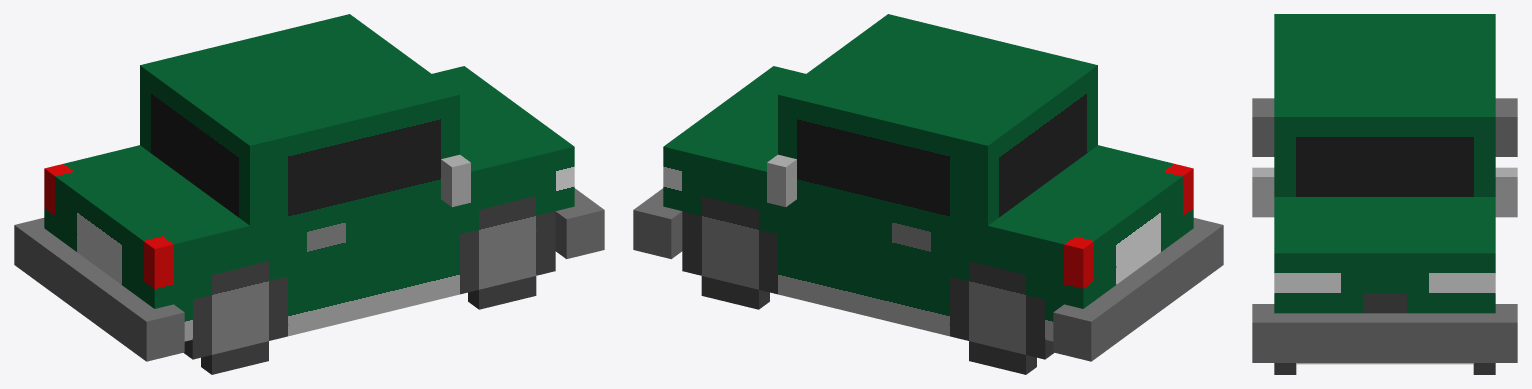
Rendered from veh_mini4.fbx.
The picture shows the model from 3 angles, left to right: view 1: azimuth 30°, elevation 25°; view 2: azimuth 150°, elevation 25°; view 3: azimuth 270°, elevation 25°; orthographic projection.
Visible parts, largest first — view 1: veh_mini4; view 2: veh_mini4; view 3: veh_mini4.
Boxes of the visible parts, bbox=[...] form: veh_mini4: bbox=[14, 14, 604, 374]; veh_mini4: bbox=[633, 14, 1223, 374]; veh_mini4: bbox=[1252, 14, 1517, 374].
Bounding box in the file's own units: 2.4 × 1.2 × 1.1.
1 material, 1 textured.
